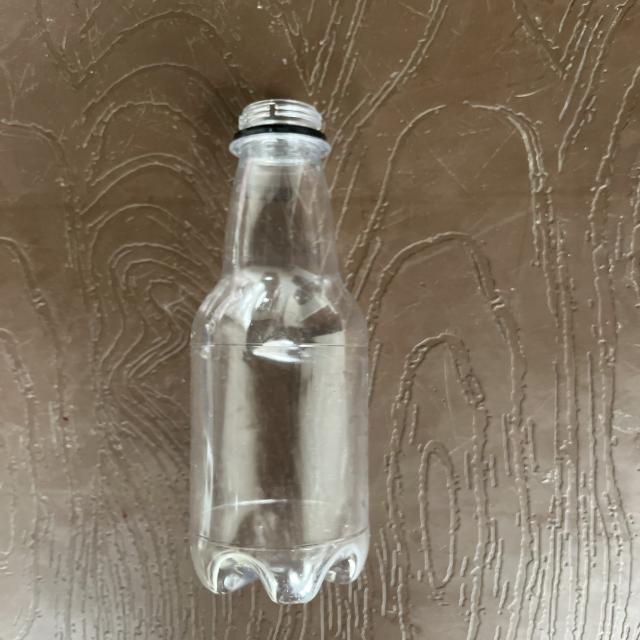PET_With_Cap: (179, 94, 378, 603)
